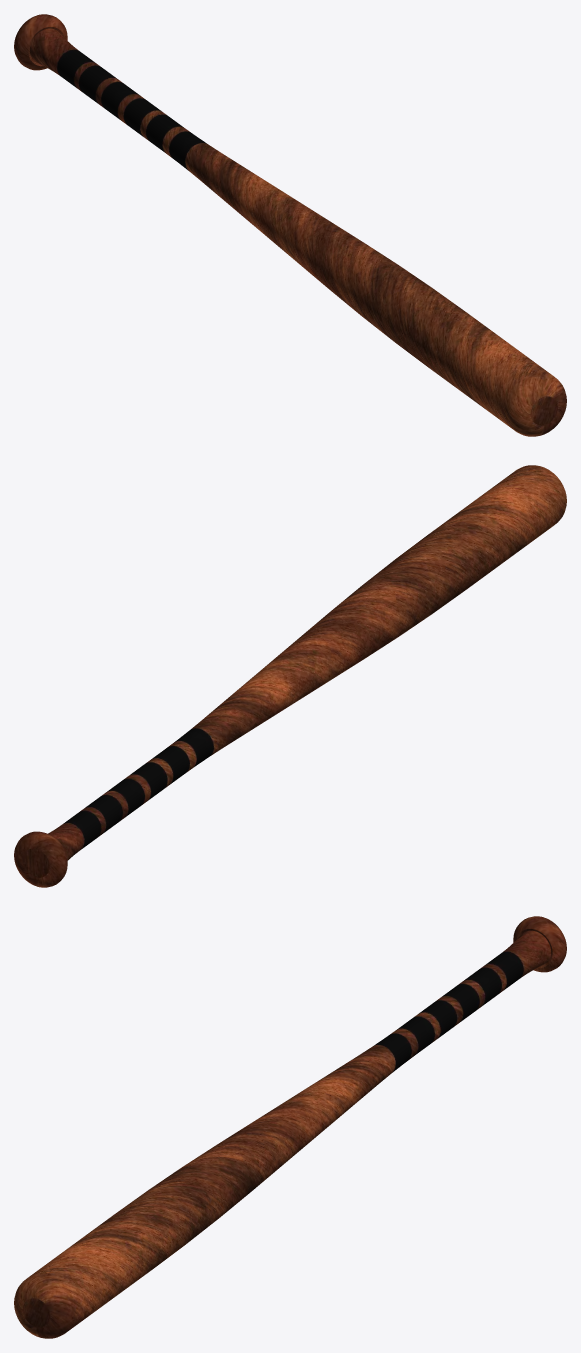
The model's file is bat1_white.glb.
3 renders of one model, top to bottom at view 1: azimuth 30°, elevation 25°; view 2: azimuth 150°, elevation 25°; view 3: azimuth 330°, elevation 25°, orthographic.
Visible parts, largest first — view 1: body; view 2: body; view 3: body.
Boxes of the visible parts, x1,y1,x2,y2 form: body: (14,14,566,436); body: (14,465,566,887); body: (14,916,566,1338).
Size of the model in its own units: 0.0555 by 0.0555 by 0.84.
Materials: 1 (1 with a texture image).
